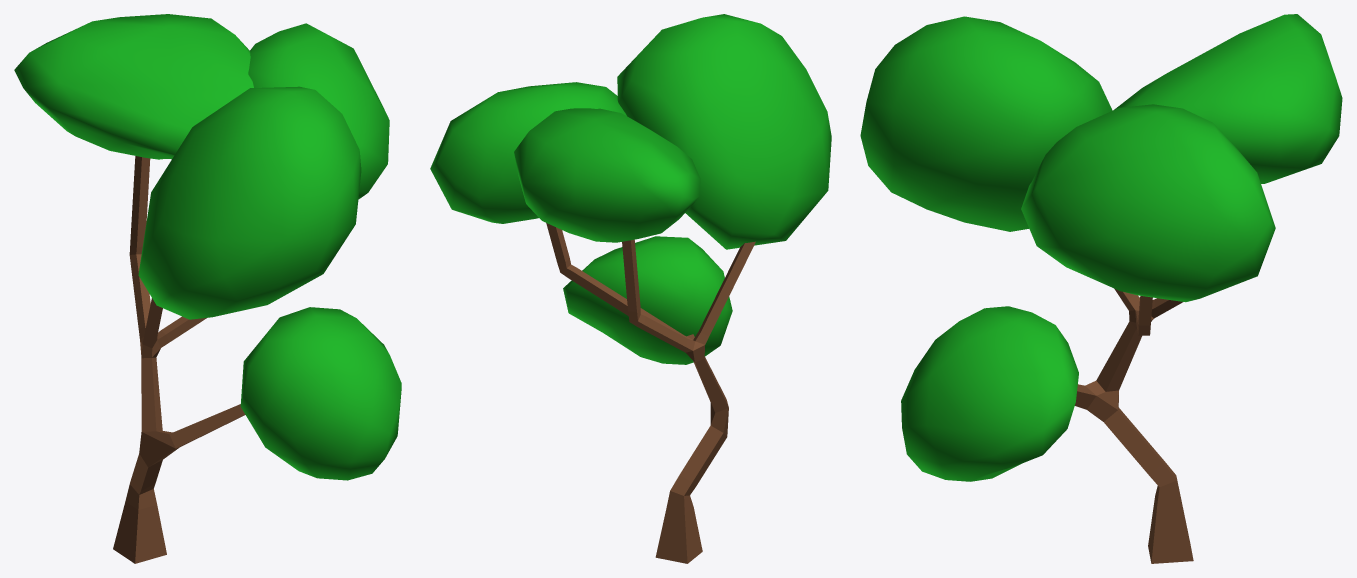
File: TreeFinal.fbx
3 views of the same model, side by side, from view 1: azimuth 30°, elevation 25°; view 2: azimuth 150°, elevation 25°; view 3: azimuth 270°, elevation 25° (orthographic). The views are drawn at different scales.
Visible parts, largest first — view 1: Icosphere.001, Icosphere, Icosphere.003, Cube, Icosphere.002; view 2: Icosphere.001, Icosphere, Icosphere.002, Icosphere.003, Cube; view 3: Icosphere.002, Icosphere.001, Icosphere.003, Icosphere, Cube.
Boxes of the visible parts, left/top/right/bottom form: Icosphere.001: left=138, top=86, right=361, bottom=319; Icosphere: left=14, top=14, right=253, bottom=159; Icosphere.003: left=240, top=307, right=401, bottom=480; Cube: left=113, top=156, right=245, bottom=563; Icosphere.002: left=248, top=23, right=389, bottom=199; Icosphere.001: left=617, top=14, right=831, bottom=249; Icosphere: left=514, top=108, right=700, bottom=242; Icosphere.002: left=430, top=82, right=626, bottom=223; Icosphere.003: left=563, top=236, right=732, bottom=364; Cube: left=546, top=223, right=755, bottom=563; Icosphere.002: left=1021, top=104, right=1275, bottom=302; Icosphere.001: left=860, top=16, right=1112, bottom=231; Icosphere.003: left=901, top=306, right=1078, bottom=481; Icosphere: left=1114, top=14, right=1342, bottom=183; Cube: left=1075, top=288, right=1193, bottom=563.
Size of the model in its own units: 1025 by 1615 by 1269.
